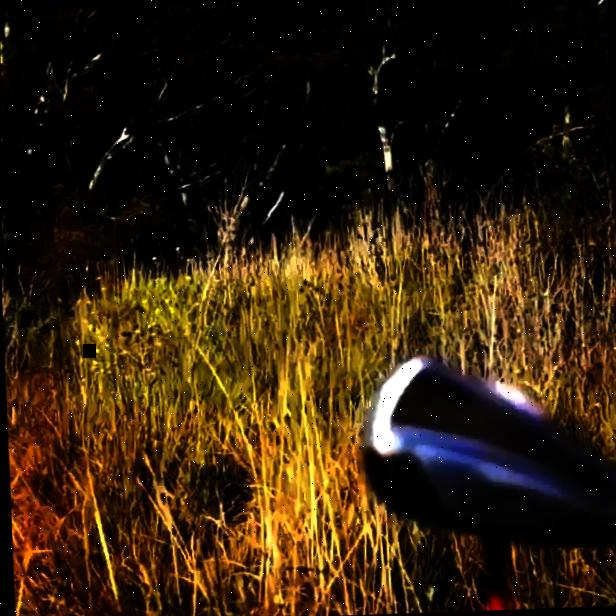ClubHead: (352, 344, 616, 551)
GolfBall: (486, 377, 545, 422)
